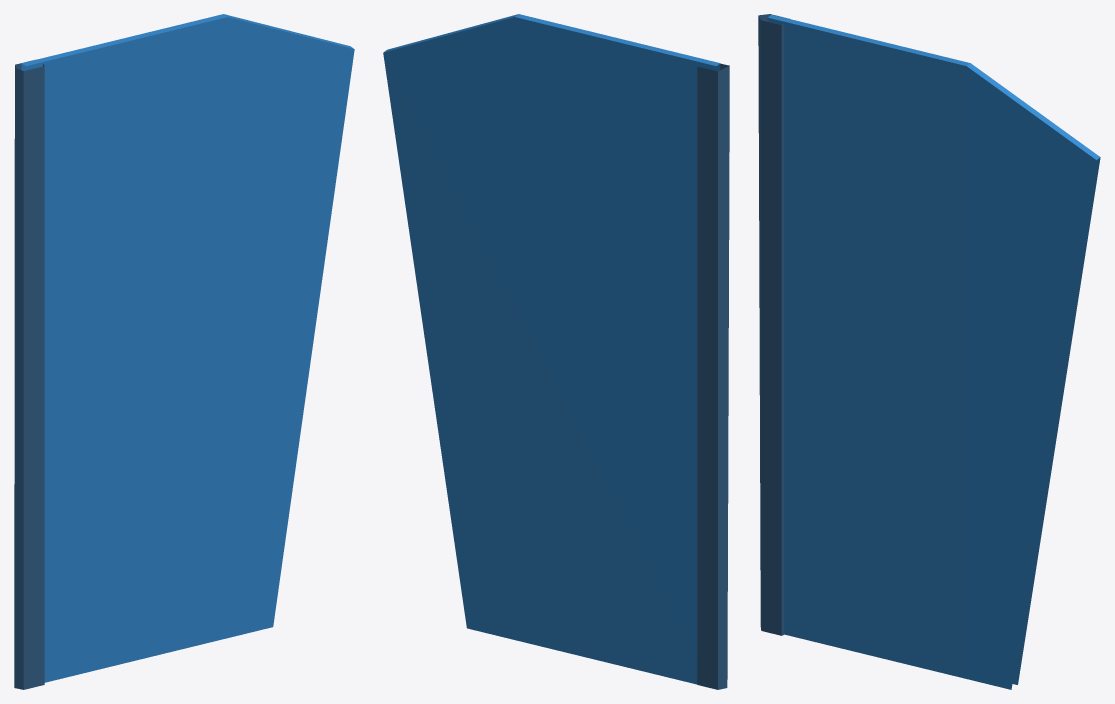
File: Gate.fbx
The picture shows the model from 3 angles, left to right: view 1: azimuth 30°, elevation 25°; view 2: azimuth 150°, elevation 25°; view 3: azimuth 330°, elevation 25°; orthographic projection.
Visible parts, largest first — view 1: Cube.002; view 2: Cube.002; view 3: Cube.002.
Part boxes in pixels (x1,y1,x2,y2): Cube.002: (14,14,354,689); Cube.002: (383,14,729,689); Cube.002: (758,14,1100,689).
Size of the model in its own units: 6.12 by 10.68 by 0.2763.
